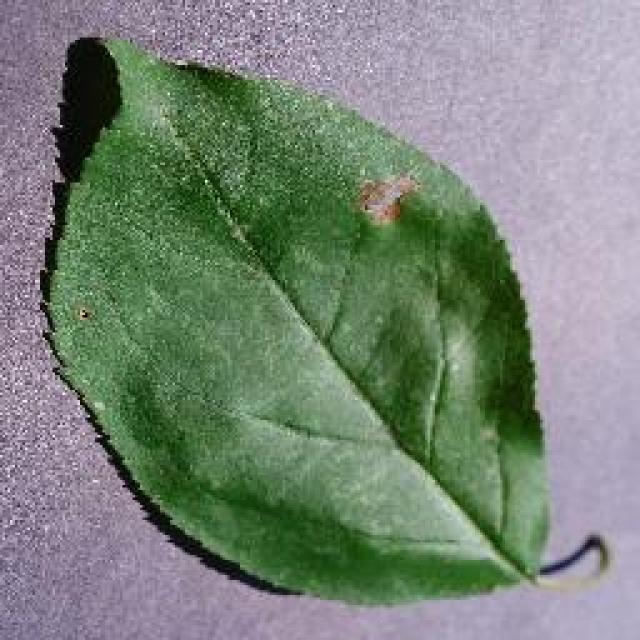Black_rot: (35, 32, 607, 608)
